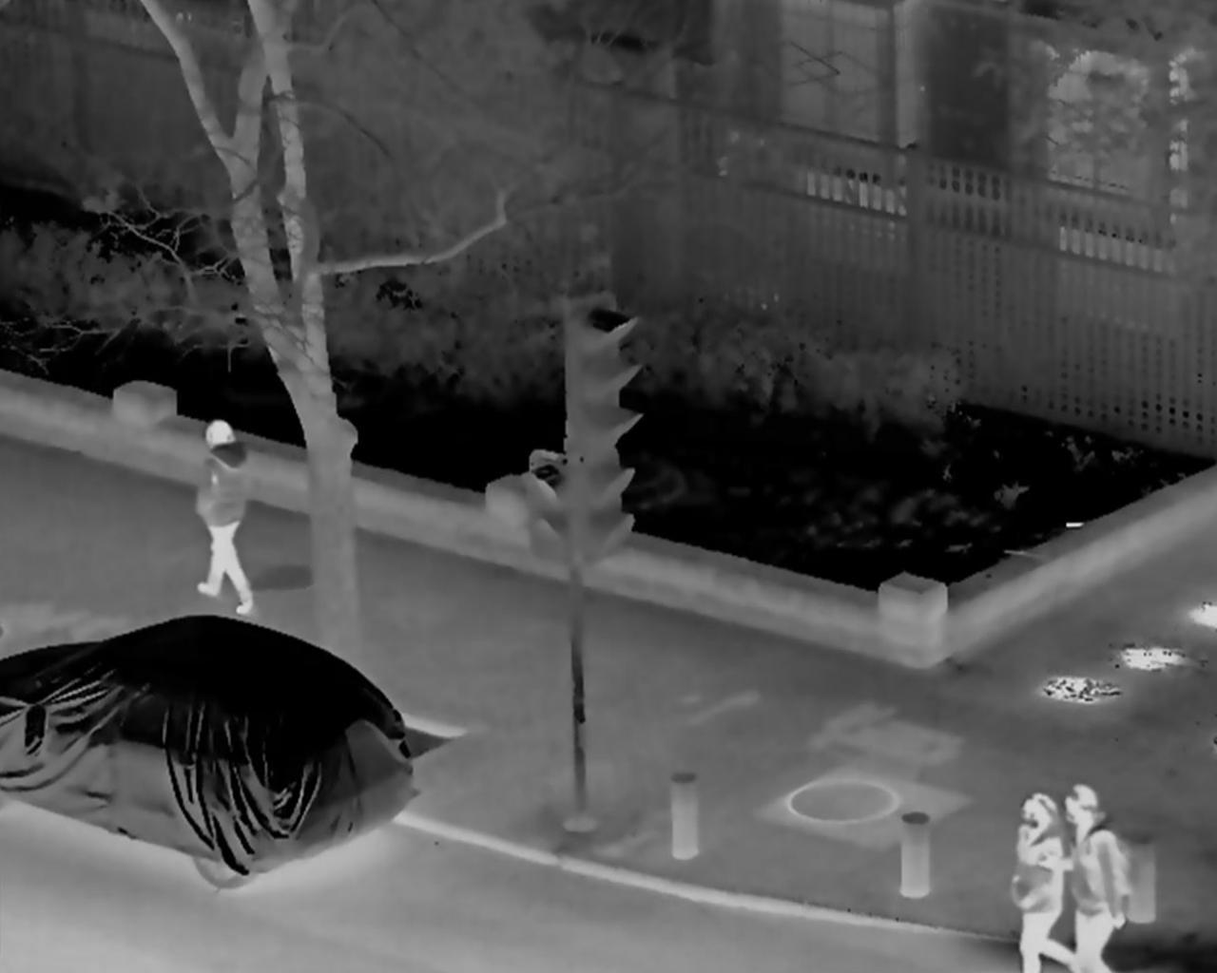person: (188, 415, 266, 616), (1054, 790, 1139, 973), (1005, 792, 1083, 973)
